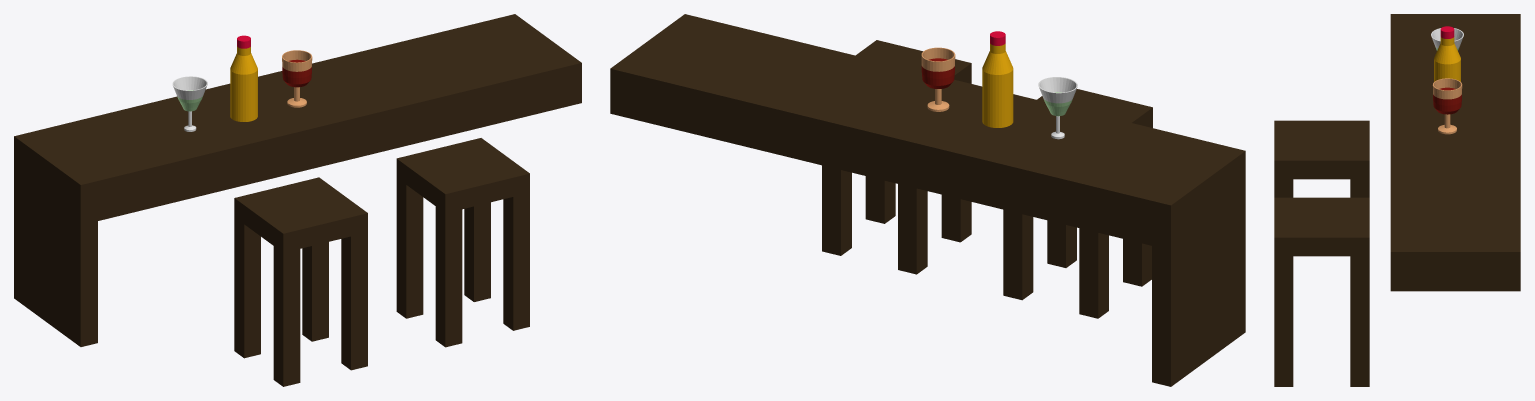
The model's file is Bar.glb.
3 views of the same model, side by side, from view 1: azimuth 30°, elevation 25°; view 2: azimuth 150°, elevation 25°; view 3: azimuth 270°, elevation 25° (orthographic). The views are drawn at different scales.
Visible parts, largest first — view 1: Bar, Stool, Stool2, Champagne, Wine, Martini; view 2: Bar, Stool2, Stool, Champagne, Wine, Martini; view 3: Bar, Stool, Stool2, Wine, Champagne, Martini.
Part boxes in pixels (bbox=[...]): Bar: bbox=[14, 14, 581, 346]; Stool: bbox=[396, 138, 529, 347]; Stool2: bbox=[234, 177, 367, 386]; Champagne: bbox=[230, 35, 257, 121]; Wine: bbox=[282, 50, 312, 107]; Martini: bbox=[172, 76, 207, 131]; Bar: bbox=[610, 14, 1245, 386]; Stool2: bbox=[1003, 89, 1152, 318]; Stool: bbox=[822, 40, 971, 274]; Champagne: bbox=[982, 31, 1013, 127]; Wine: bbox=[921, 47, 955, 111]; Martini: bbox=[1038, 77, 1077, 139]; Bar: bbox=[1390, 14, 1520, 291]; Stool: bbox=[1274, 197, 1369, 386]; Stool2: bbox=[1274, 120, 1369, 197]; Wine: bbox=[1432, 78, 1462, 134]; Champagne: bbox=[1434, 26, 1460, 81]; Martini: bbox=[1431, 28, 1463, 50].
Bounding box in the file's own units: 8.67 × 4.48 × 3.79.
